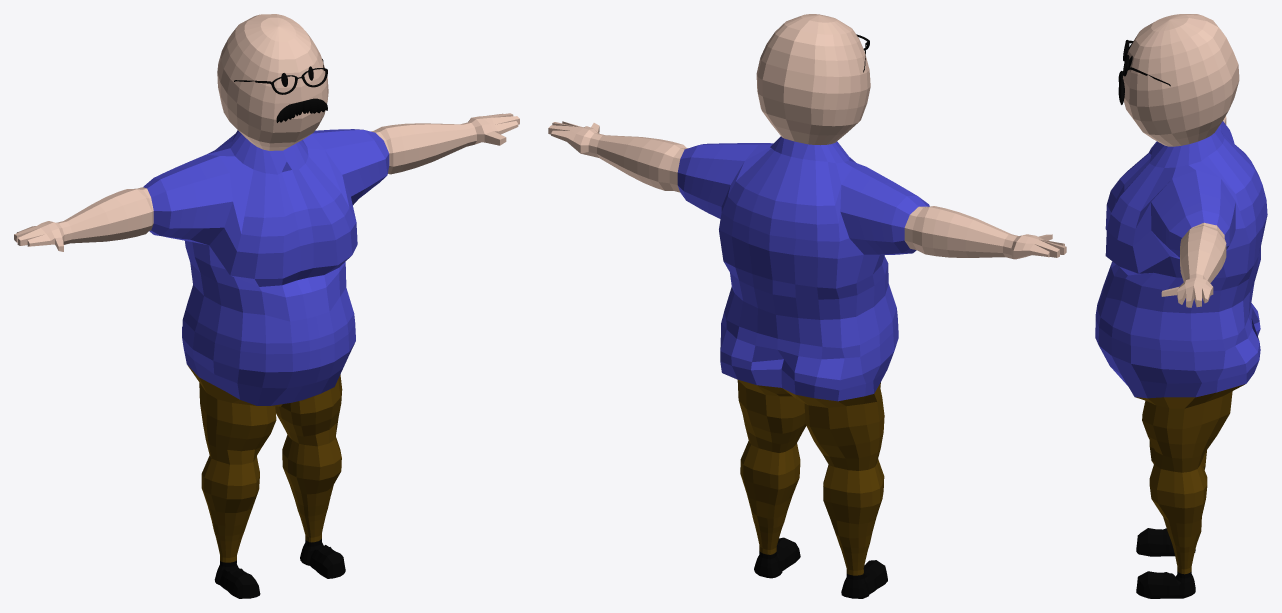
Rendered from Main_Dad.fbx.
3 renders of one model, left to right at view 1: azimuth 30°, elevation 25°; view 2: azimuth 150°, elevation 25°; view 3: azimuth 270°, elevation 25°, orthographic. The views are drawn at different scales.
Visible parts, largest first — view 1: pSphere10; view 2: pSphere10; view 3: pSphere10.
Part boxes in pixels (x1,y1,x2,y2): pSphere10: (14,14,519,598); pSphere10: (548,14,1066,598); pSphere10: (1095,14,1267,598).
Bounding box in the file's own units: 11.19 × 11.88 × 3.33.
